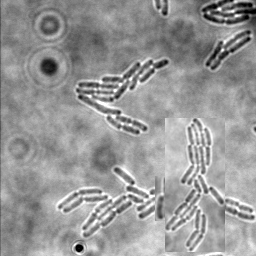Dividing: (225, 204, 255, 222), (225, 199, 253, 215)
Microcolony: (165, 118, 225, 252), (57, 167, 164, 238), (75, 59, 169, 136), (204, 30, 251, 72), (200, 1, 255, 26), (155, 176, 179, 221)
